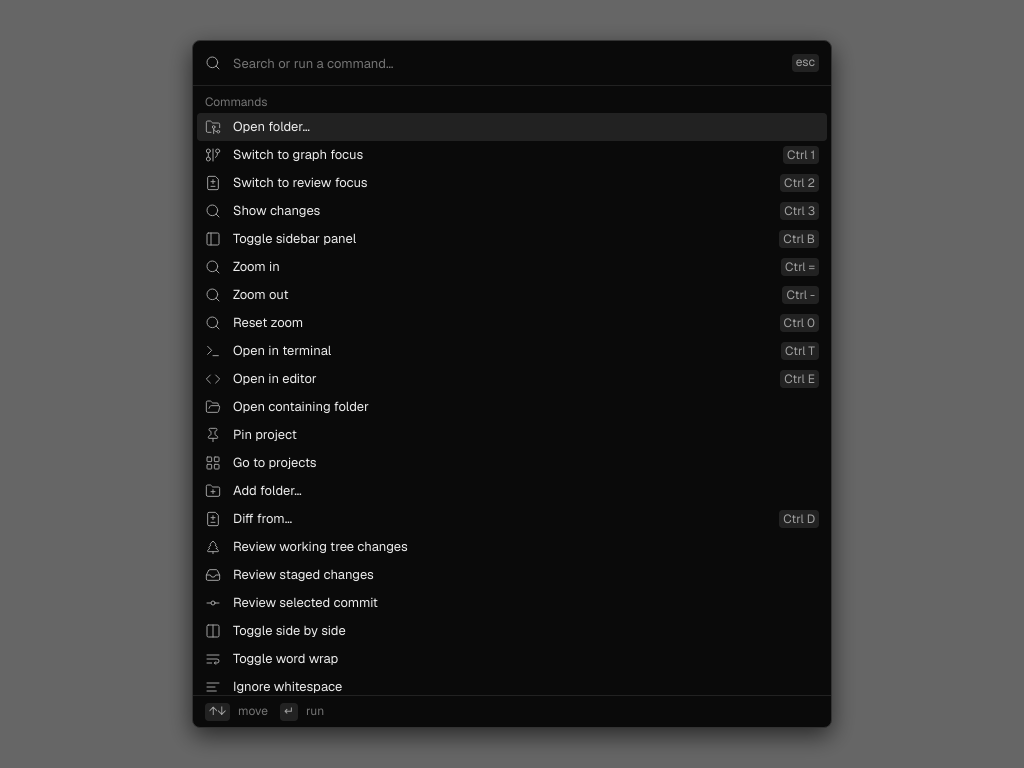
Test case: PaletteOverlay › lists every project's repositories under Repos, the open project's first, and shows the chosen one
This screenshot has width=1024, height=768.
Type "infra" into the dropdown with test id "palette-input" at {"x": 506, "y": 63}, box [233,49,780,77]
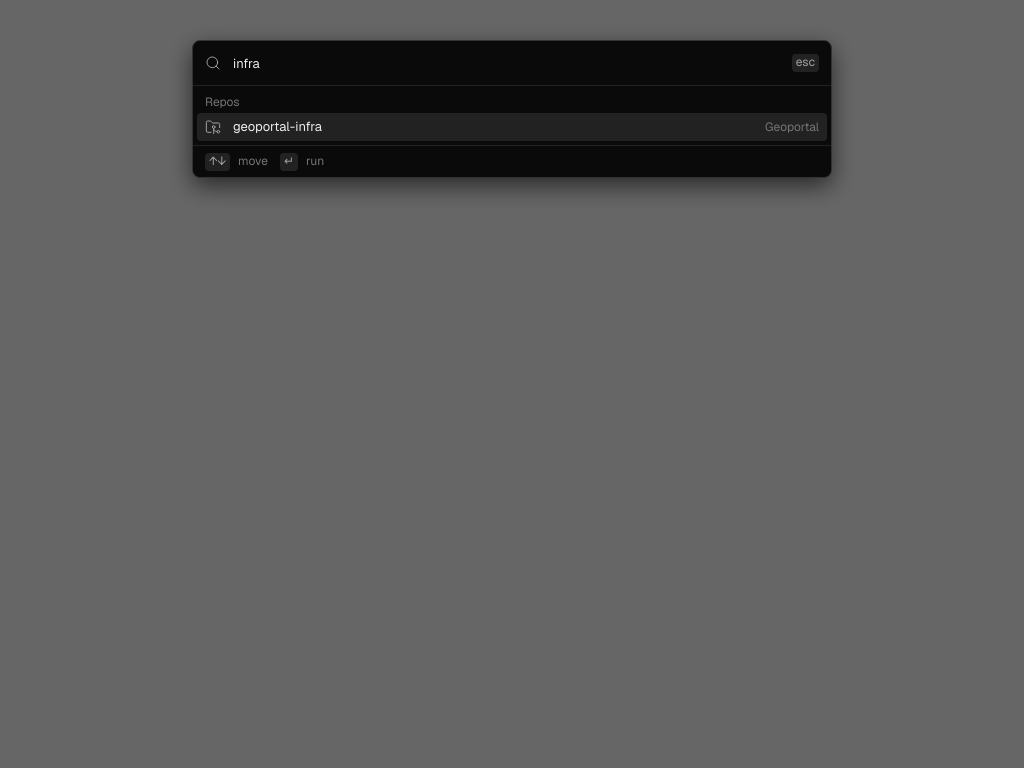
Expected: the elements with test id "palette-row" read "geoportal-infraGeoportal", in this order, [197,113,827,141]
Press Enter in the dropdown with test id "palette-input", box [233,49,780,77]
(page scrolled)
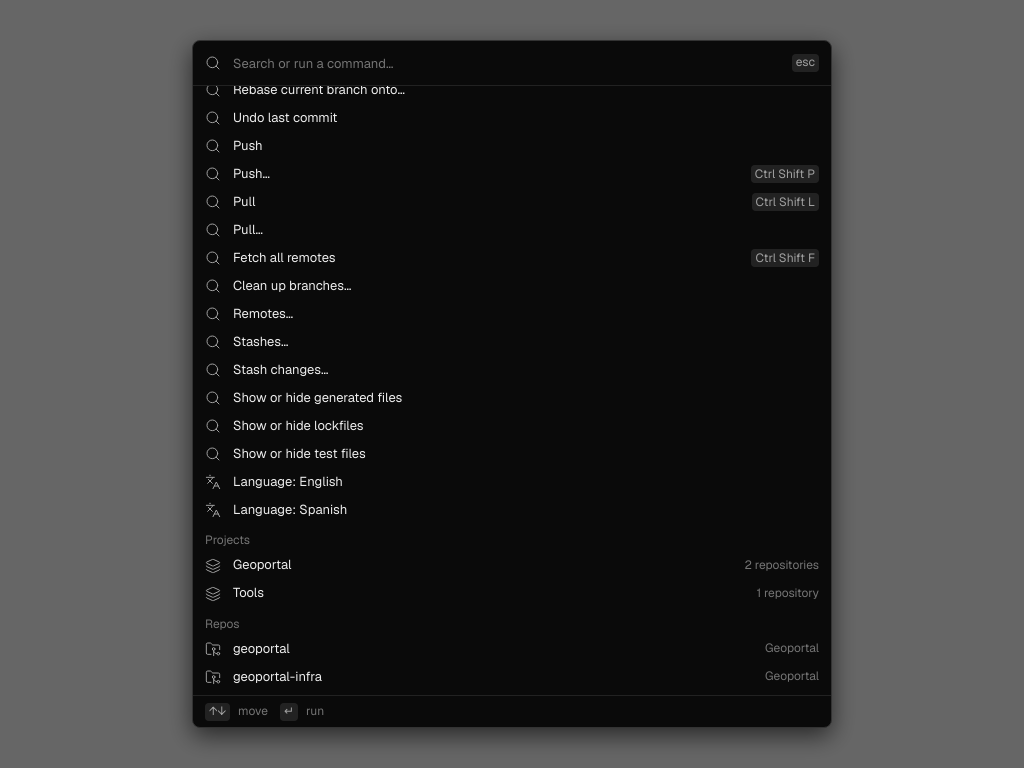
Expected: the text "Geoportal" next to "2 repositories" is shown, [233,556,291,573]
